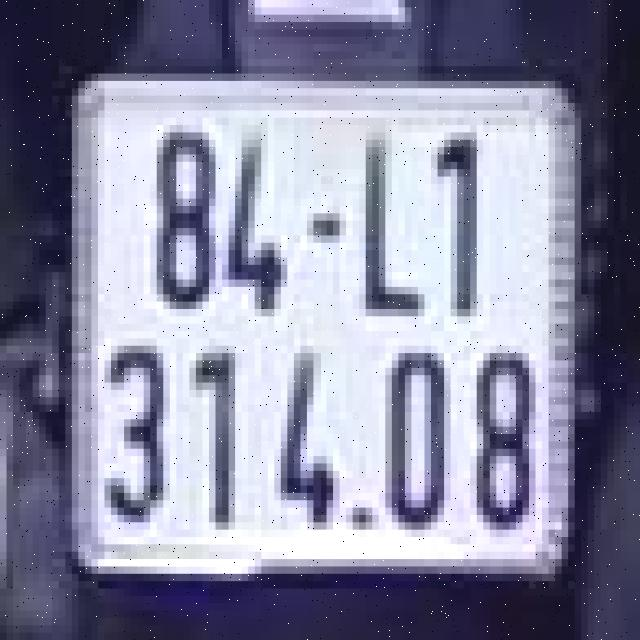0: (379, 346, 457, 544)
1: (190, 346, 248, 537), (438, 121, 490, 328)
3: (101, 331, 173, 537)
4: (261, 338, 346, 537), (219, 129, 297, 327)
8: (470, 346, 549, 544), (147, 121, 219, 328)
L: (343, 114, 434, 327)
